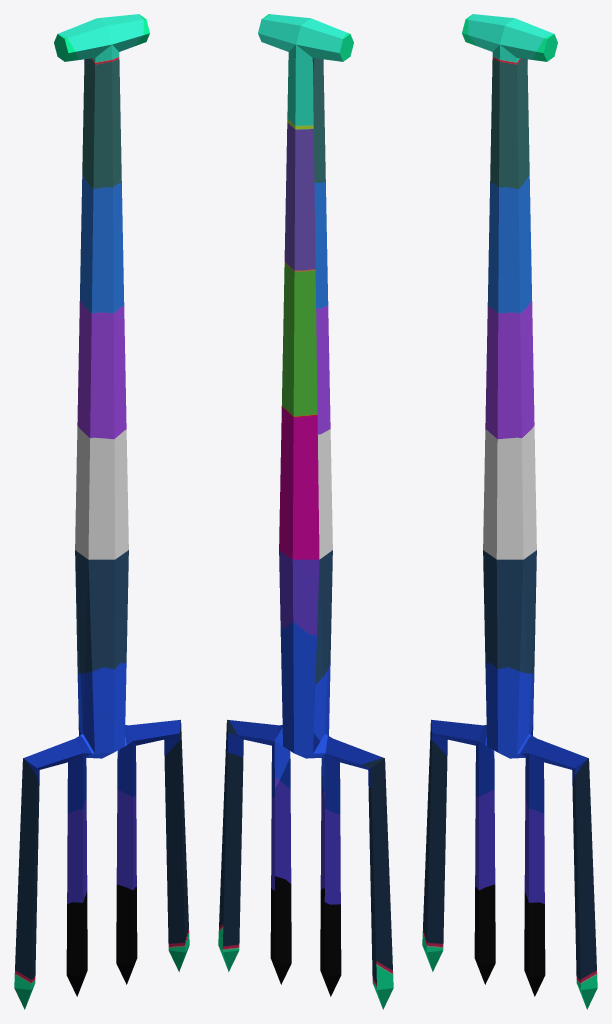
File: 068_Pitchfork.fbx
3 views of the same model, side by side, from view 1: azimuth 30°, elevation 25°; view 2: azimuth 150°, elevation 25°; view 3: azimuth 330°, elevation 25° (orthographic).
Parts seen in each view (by area): view 1: pitchfork; view 2: pitchfork; view 3: pitchfork.
Boxes of the visible parts, bbox=[...] form: pitchfork: bbox=[14, 14, 189, 1009]; pitchfork: bbox=[218, 14, 393, 1009]; pitchfork: bbox=[422, 14, 597, 1009].
Bounding box in the file's own units: 27.97 × 148 × 7.29.
